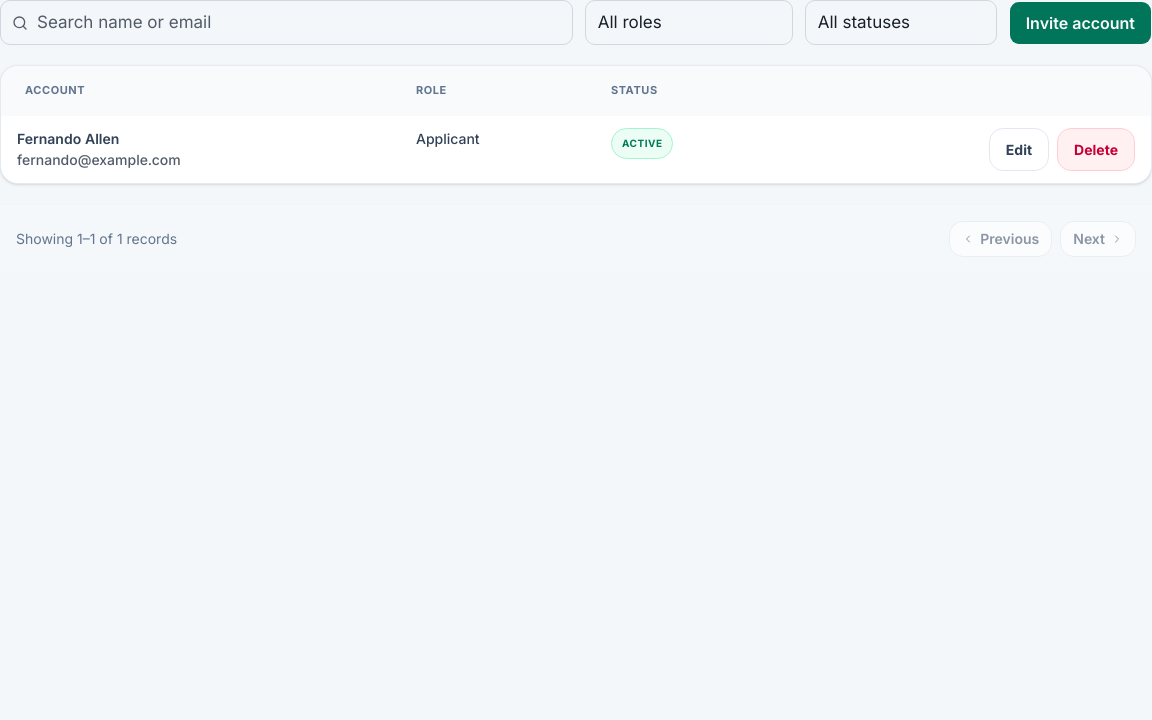
administration shared controls › offers Edit and Delete for accounts, with sign-in blocked from the edit form
The image size is (1152, 720).
Expected: the button with aria-label "Delete Fernando Allen" is shown, [1057,128,1135,171]
Click the button with aria-label "Edit Fernando Allen": (1019, 150) [989,128,1049,171]
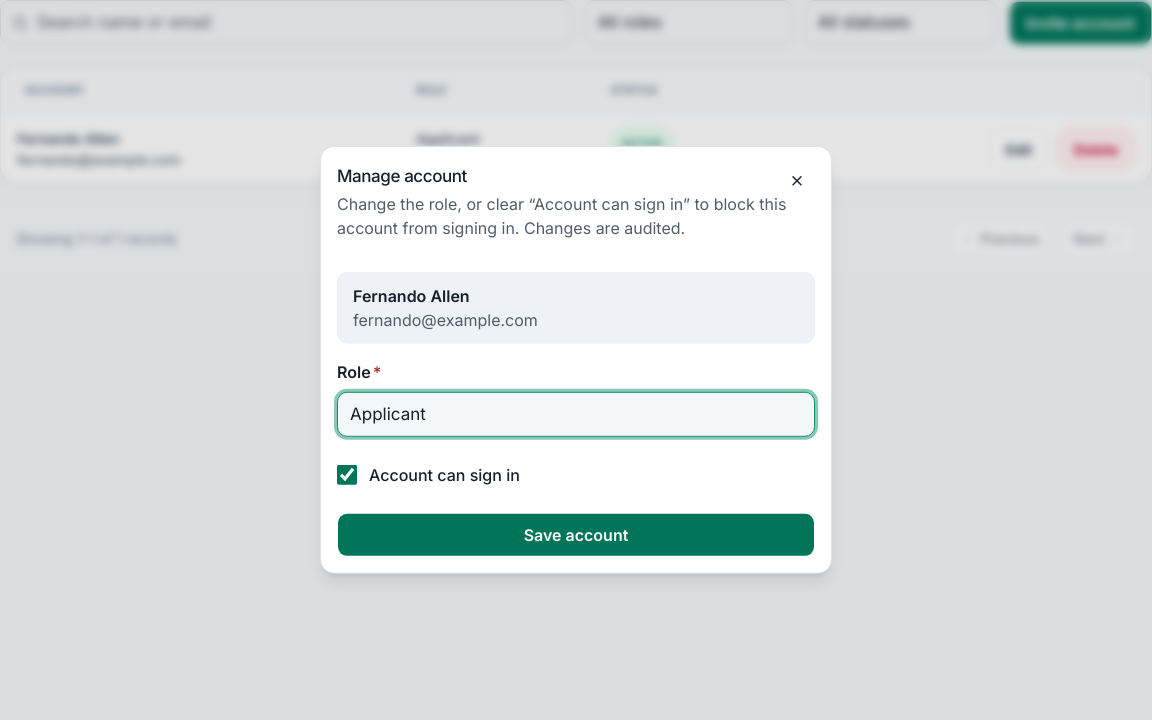
Result: the checkbox labelled "Account can sign in" is checked at [337,465,357,485]
